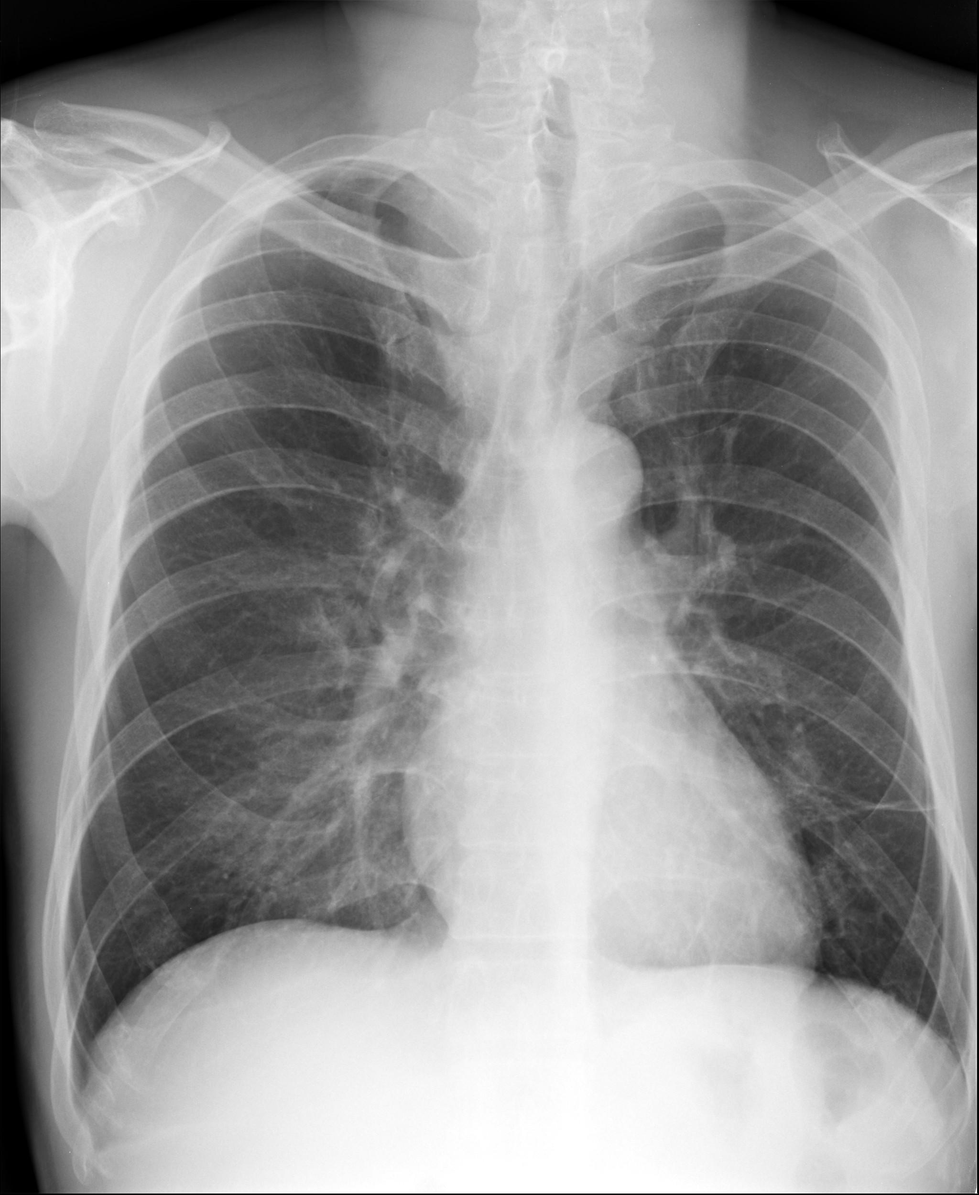Pleural thickening: (58, 1045, 109, 1119)
Pulmonary fibrosis: (836, 786, 931, 812)
